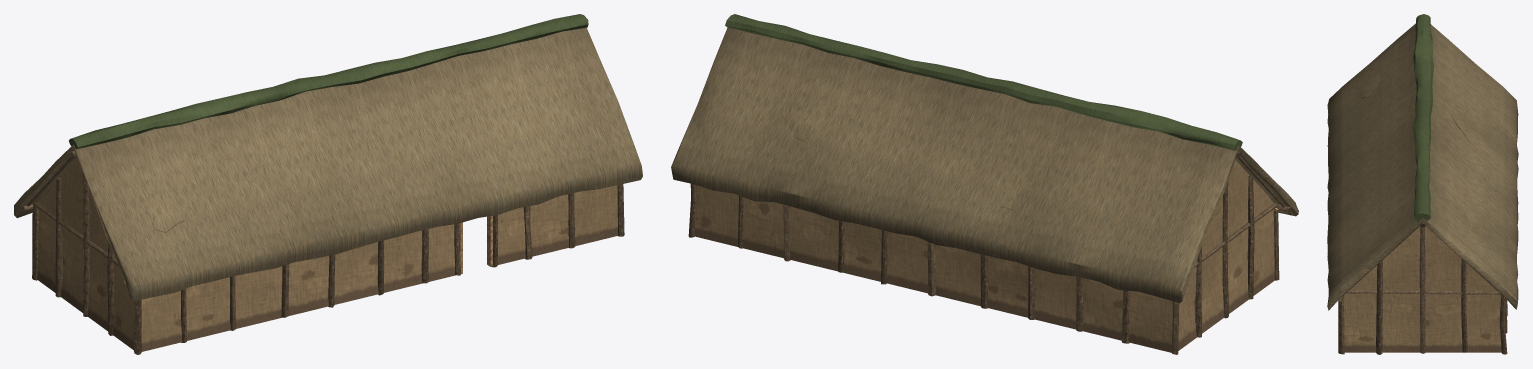
File: house_004_plain.glb
The picture shows the model from 3 angles, left to right: view 1: azimuth 30°, elevation 25°; view 2: azimuth 150°, elevation 25°; view 3: azimuth 270°, elevation 25°; orthographic projection. The views are drawn at different scales.
Visible parts, largest first — view 1: Roof, Wall, Frame; view 2: Roof, Wall, Frame; view 3: Roof, Wall, Frame.
Part boxes in pixels (box(x1,y1,x2,y2)): Roof: box(14, 14, 642, 301); Wall: box(37, 159, 617, 351); Frame: box(19, 151, 624, 354); Roof: box(671, 14, 1298, 303); Wall: box(694, 160, 1274, 352); Frame: box(688, 151, 1292, 354); Roof: box(1327, 14, 1518, 310); Wall: box(1344, 226, 1504, 352); Frame: box(1338, 223, 1507, 354).
Size of the model in its own units: 15.89 by 5.45 by 6.39.
Materials: 4 (3 with a texture image).
